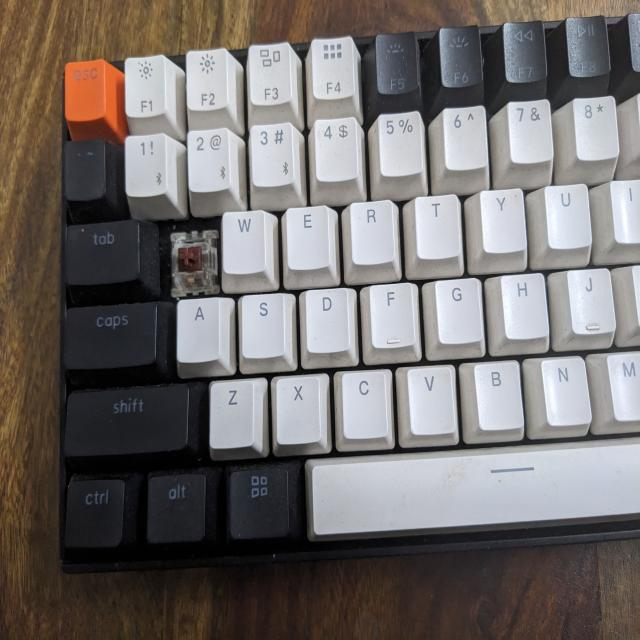C: (168, 229, 218, 290)
